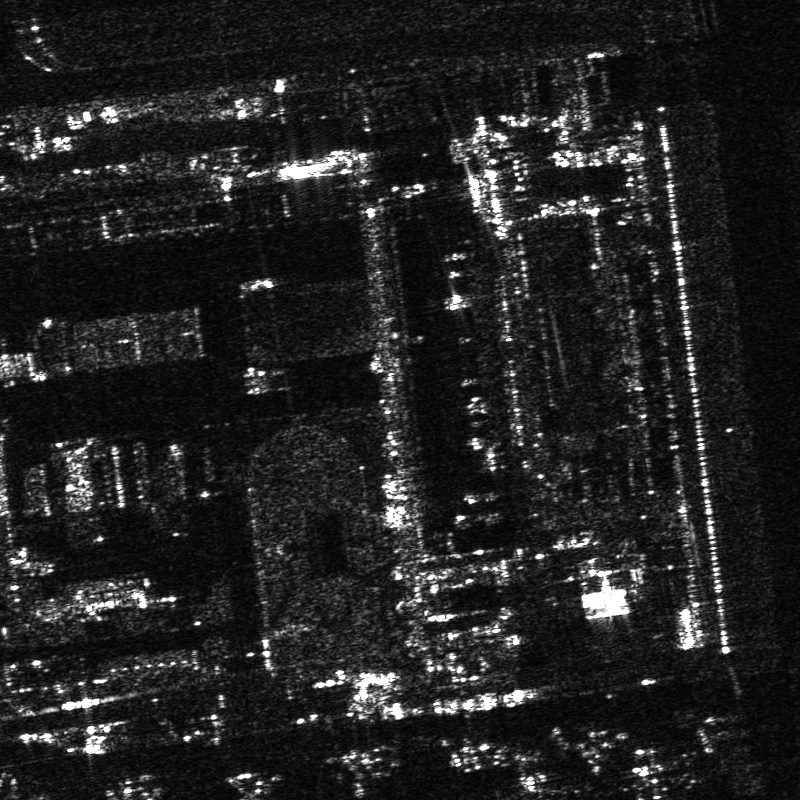Boeing787: (605, 739, 696, 799)
